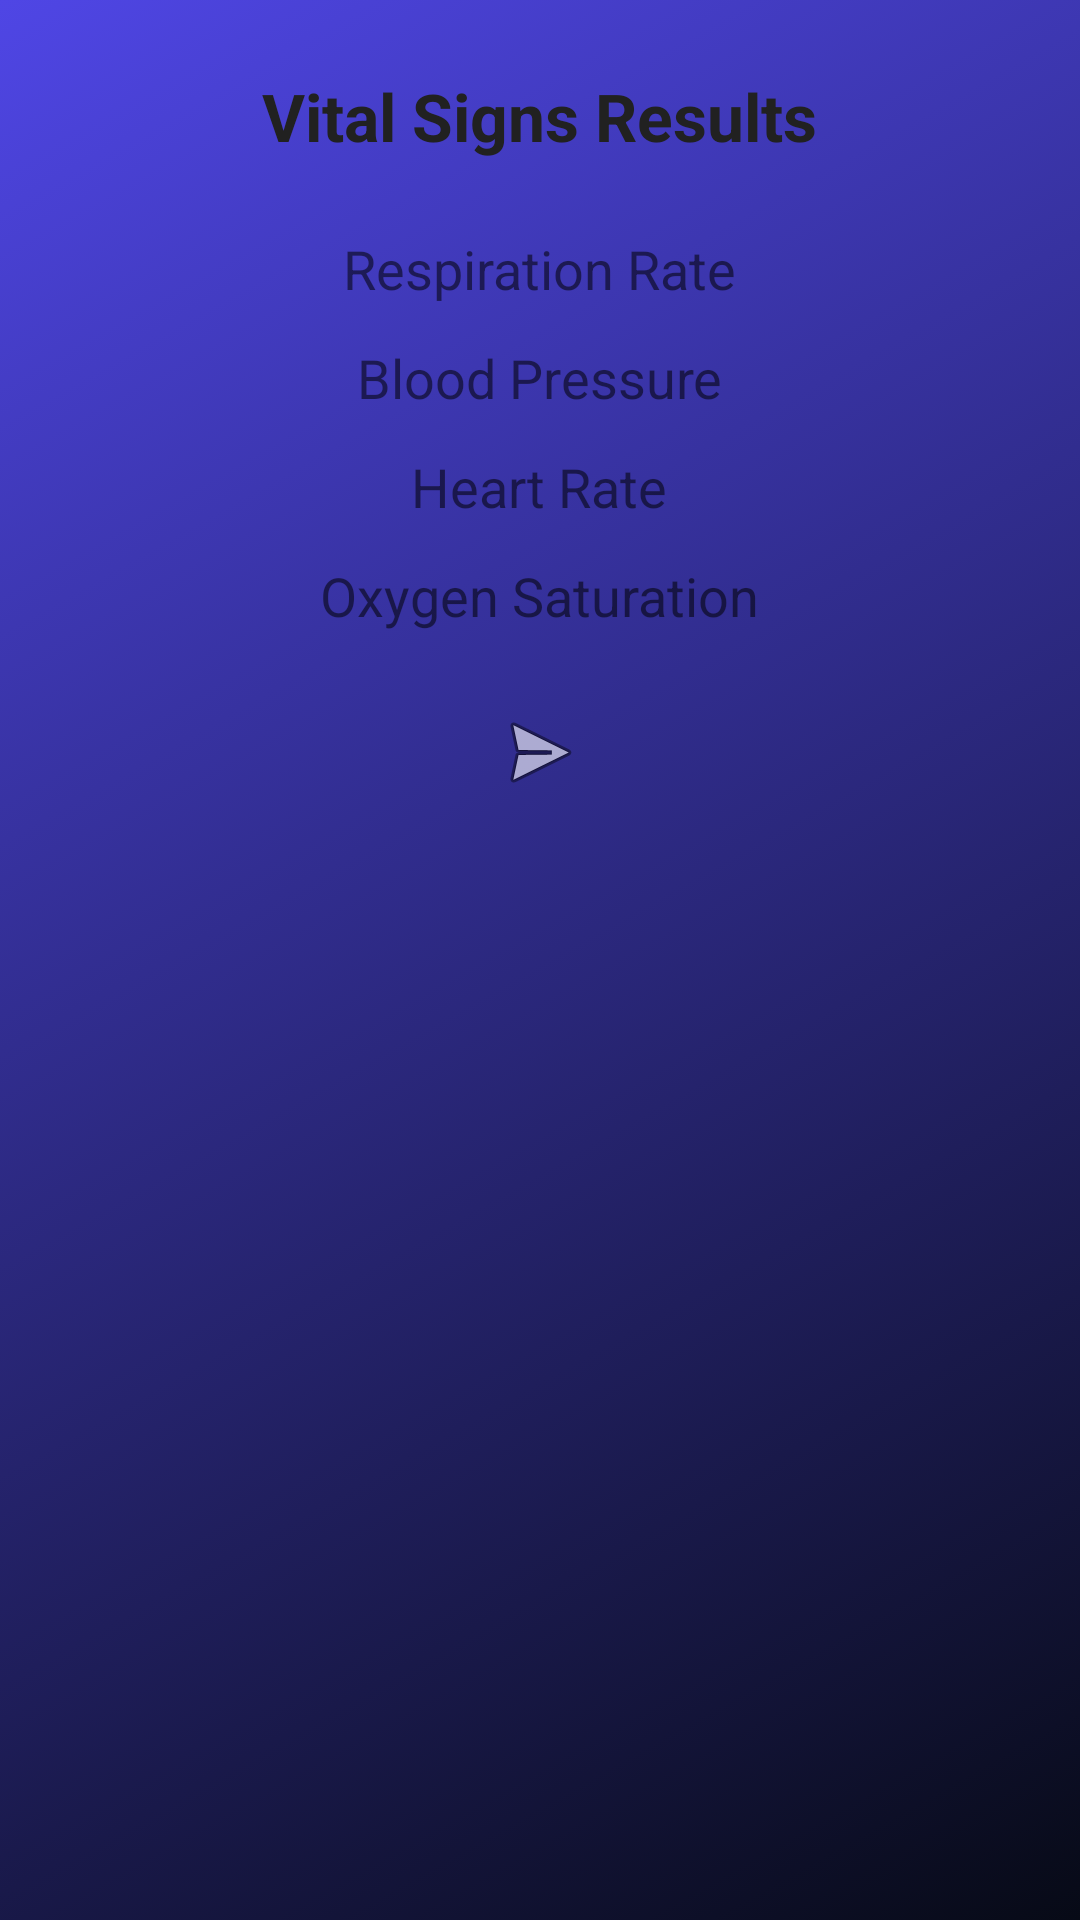

Locate icon controls on the screen. Image size 1080 x 1920, boxes as [x1,y1,x2,y2].
Send Results: [510,722,572,783]
